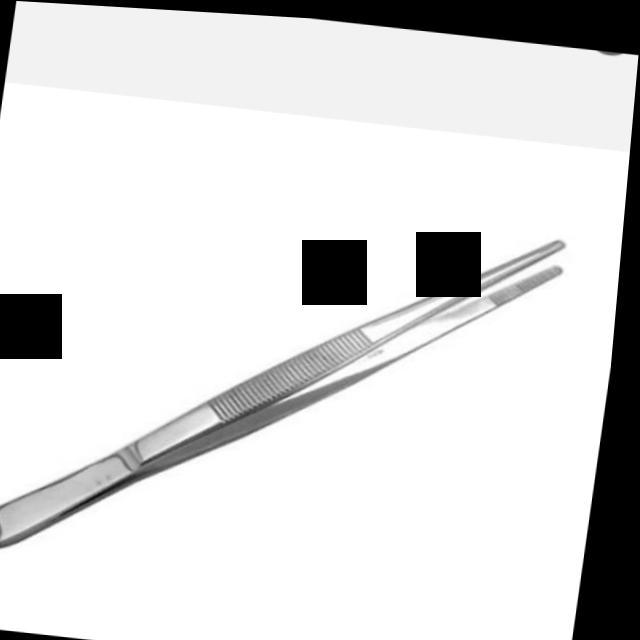Disscting Forceps -Plain-: (0, 176, 583, 604)
